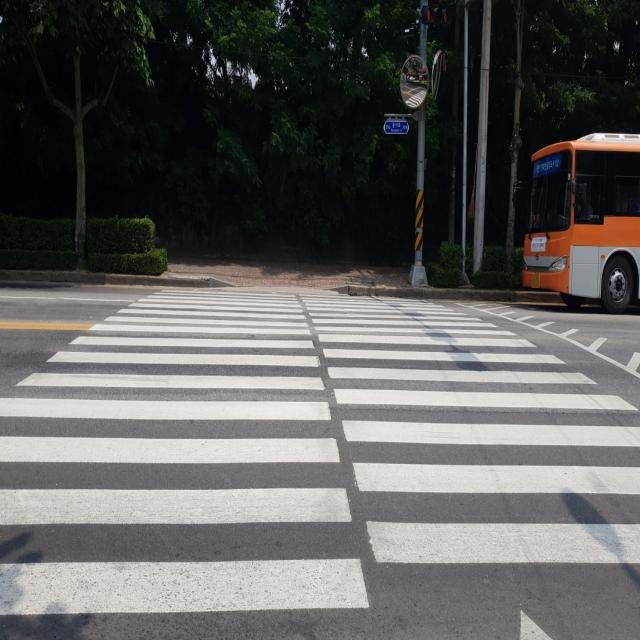횡단보도: (0, 286, 640, 640)
